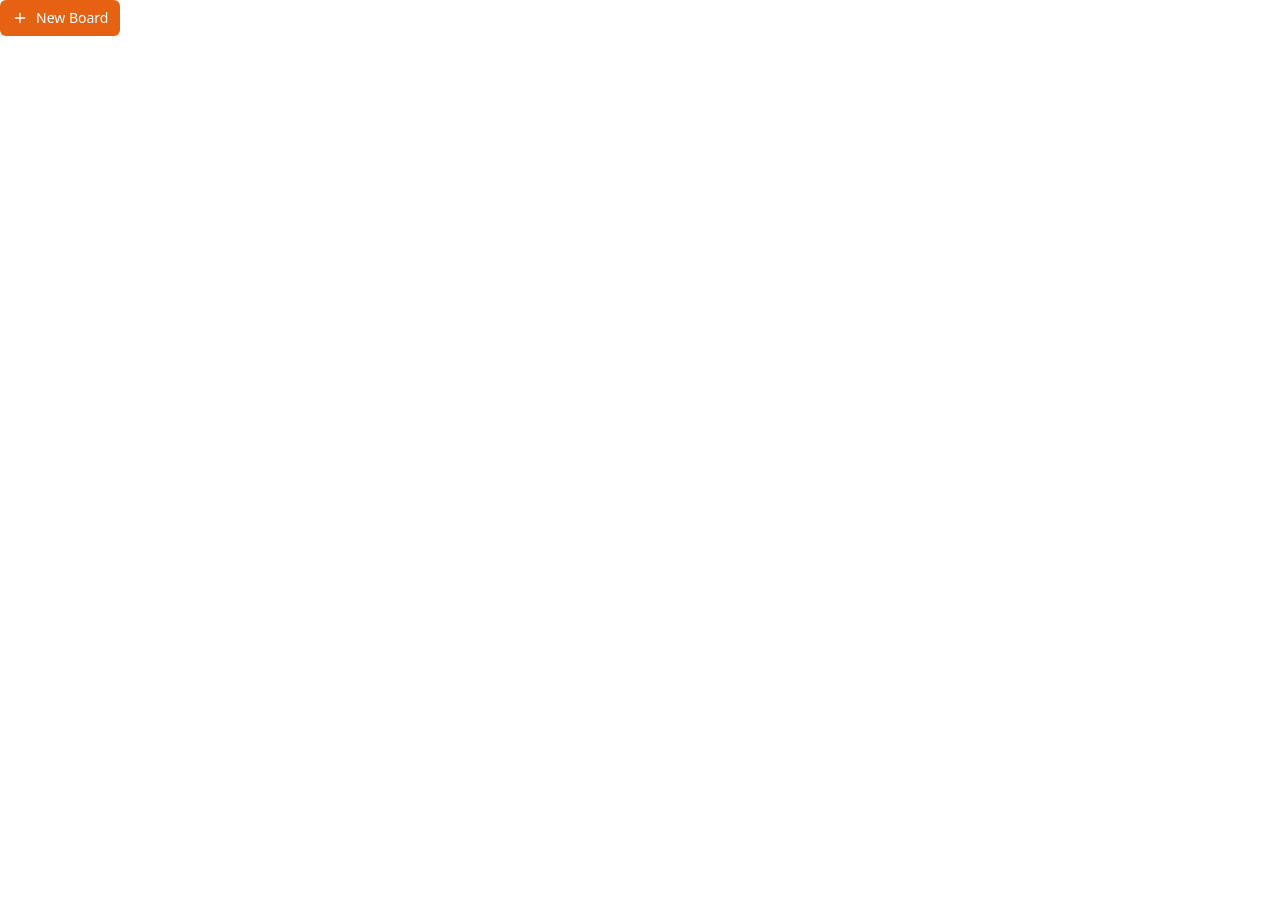
Test: CreateBoardDialog › opens dialog when trigger button is clicked
Click the button "New Board" at (60, 18), box [0,0,120,36]
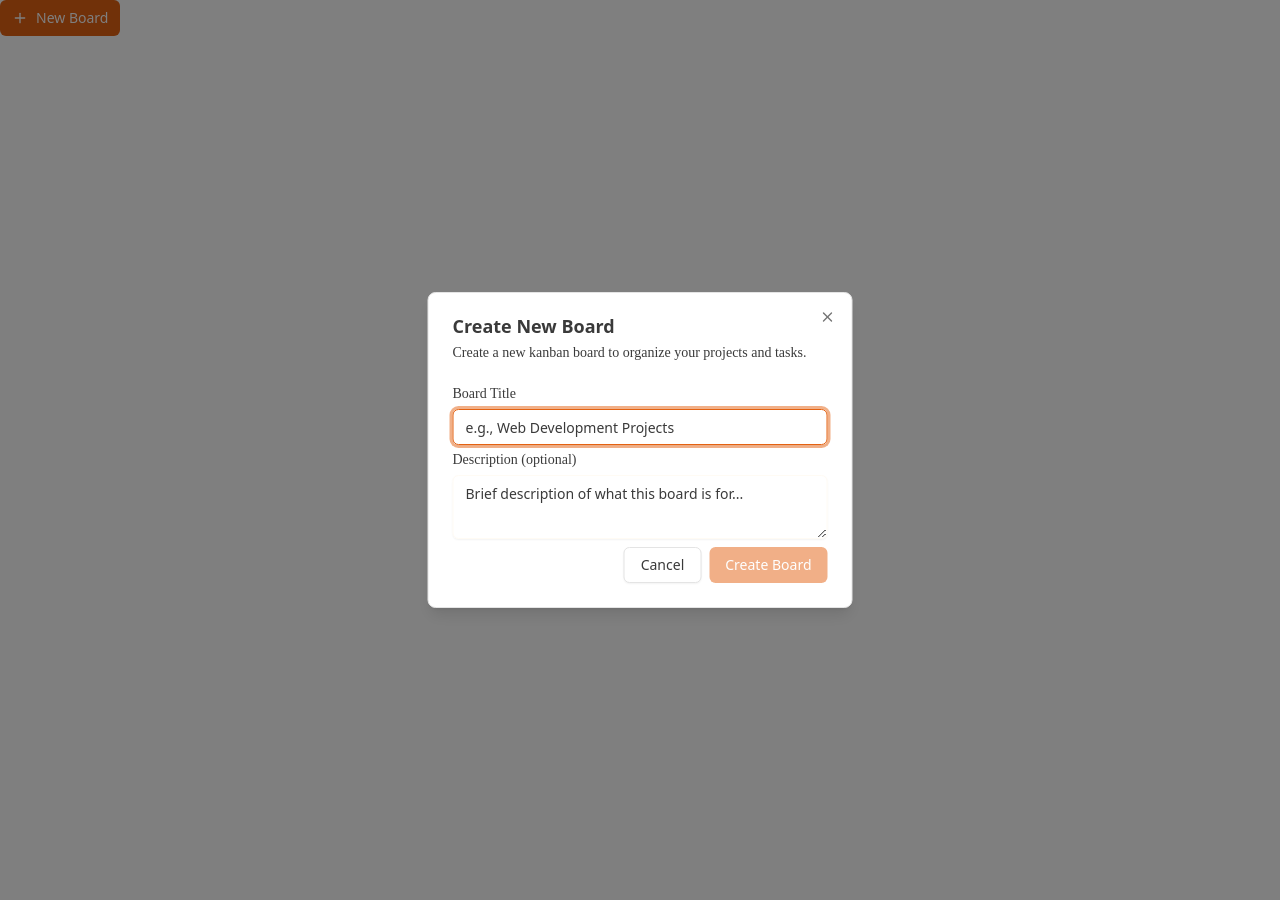
Expected: the dialog is shown, [428,292,852,608]
Expected: the heading "Create New Board" is shown, [452,314,615,338]
Expected: the text "Create a new kanban board" is shown, [452,345,806,360]
